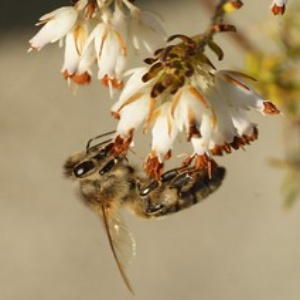bee: (58, 128, 233, 295)
